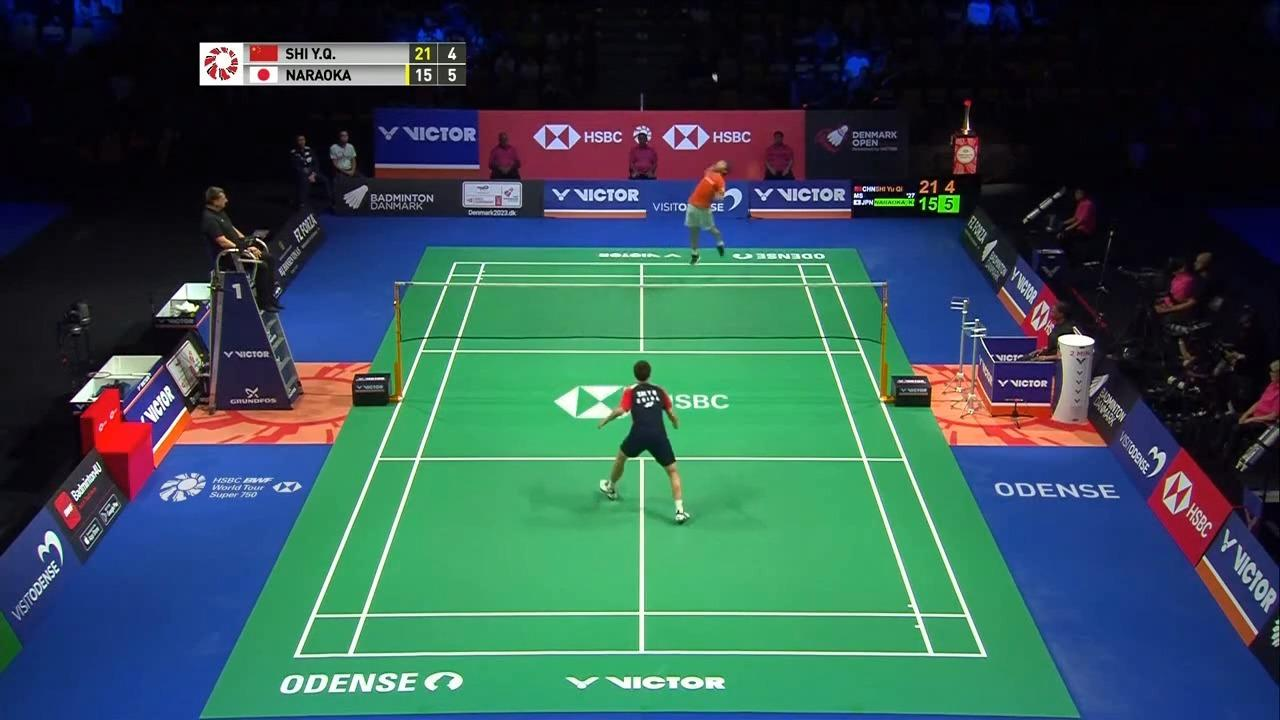shuttle: (710, 72, 723, 81)
